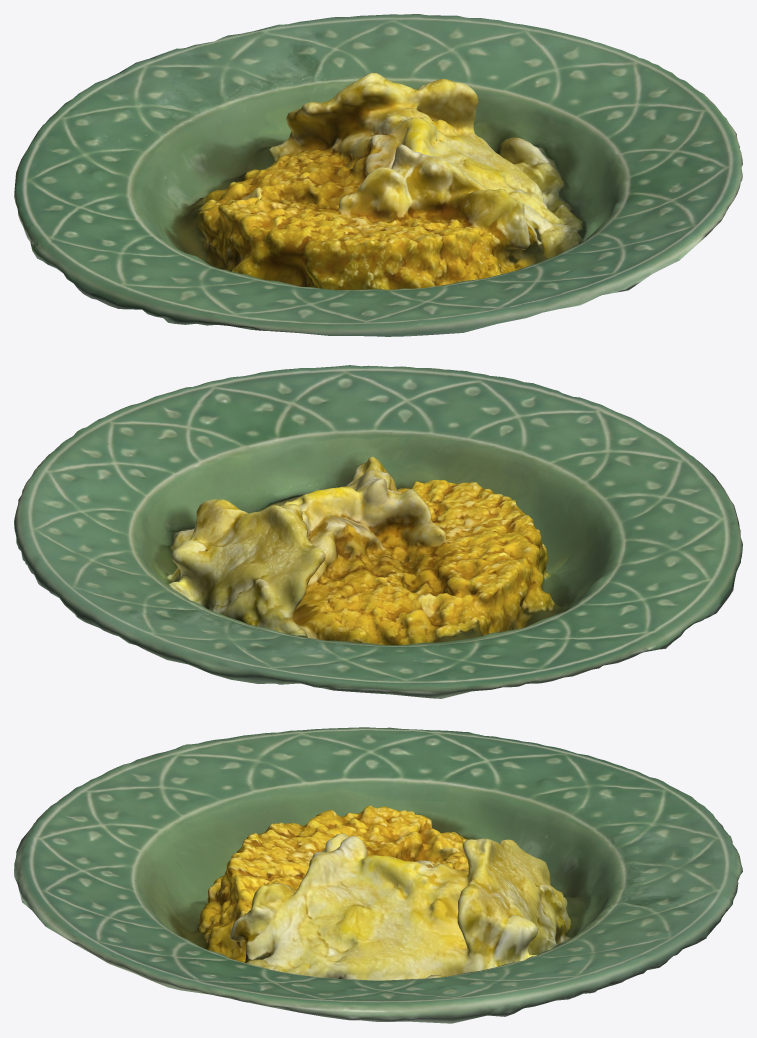
File: prato_cuscuz.glb
3 renders of one model, top to bottom at view 1: azimuth 30°, elevation 25°; view 2: azimuth 150°, elevation 25°; view 3: azimuth 270°, elevation 25°, orthographic.
Visible parts, largest first — view 1: ObjectCapture; view 2: ObjectCapture; view 3: ObjectCapture.
Boxes of the visible parts, x1=… form: ObjectCapture: x1=14, y1=14, x2=742, y2=336; ObjectCapture: x1=14, y1=365, x2=742, y2=698; ObjectCapture: x1=14, y1=727, x2=742, y2=1023.
Bounding box in the file's own units: 0.2303 × 0.0436 × 0.2288.
1 material, 1 textured.
